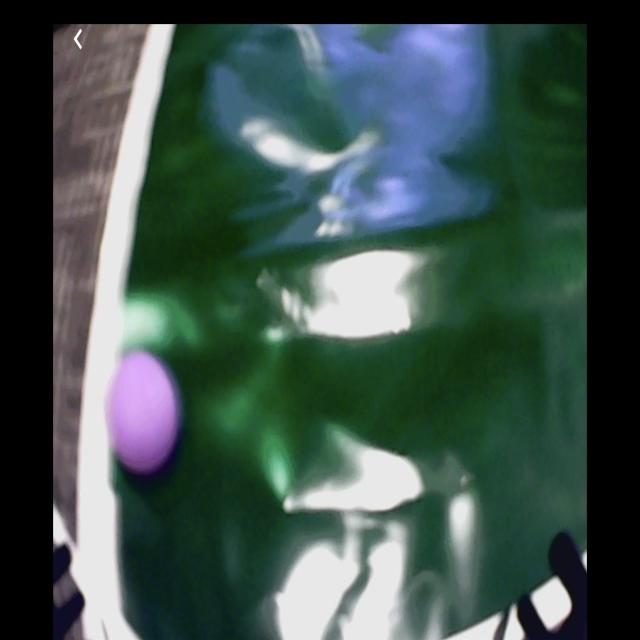ball: (106, 351, 177, 468)
